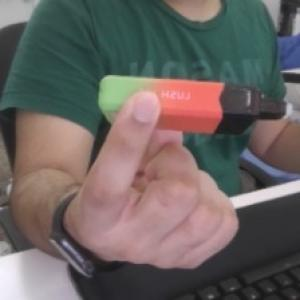Swift-E-Ciggirate: (95, 65, 295, 135)
